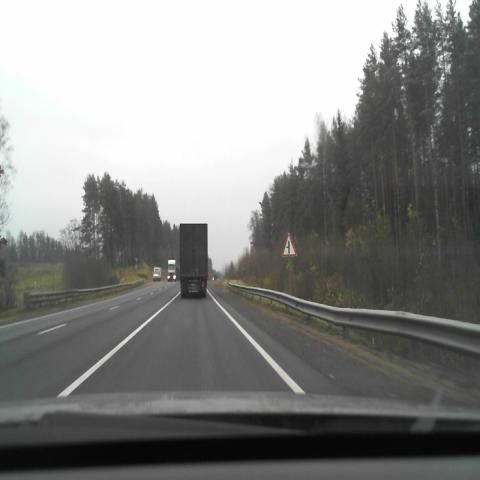2_3_3: (282, 232, 297, 257)
